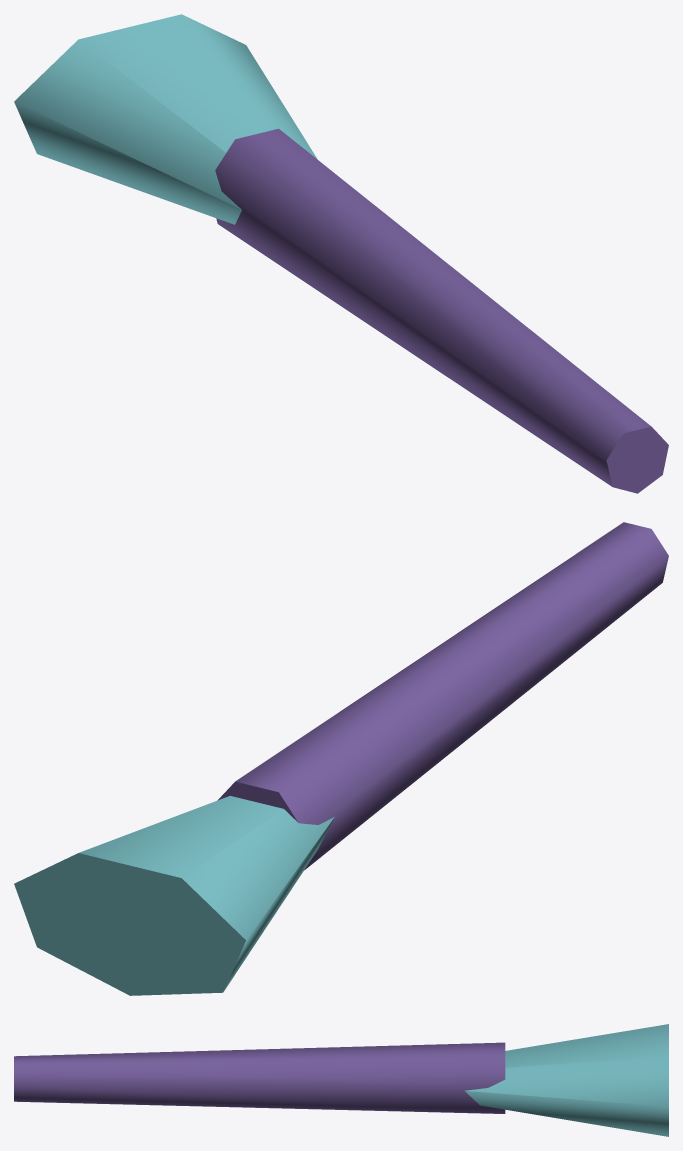
File: wpn_r_01.glb
3 views of the same model, one above another, from view 1: azimuth 30°, elevation 25°; view 2: azimuth 150°, elevation 25°; view 3: azimuth 270°, elevation 25° (orthographic). The views are drawn at different scales.
Visible parts, largest first — view 1: projectile_core, projectile_trail; view 2: projectile_core, projectile_trail; view 3: projectile_core, projectile_trail.
Boxes of the visible parts, box(x1,y1,x2,y2) form: projectile_core: box(215, 128, 668, 493); projectile_trail: box(14, 14, 317, 224); projectile_core: box(217, 522, 668, 870); projectile_trail: box(14, 796, 334, 995); projectile_core: box(14, 1042, 505, 1113); projectile_trail: box(464, 1024, 668, 1136).
Bounding box in the file's own units: 0.2535 × 0.1359 × 0.96.
